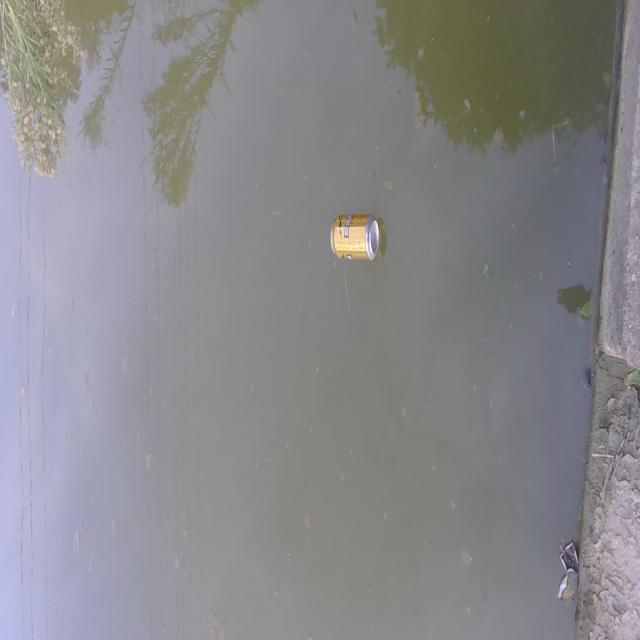garbage: (330, 211, 382, 261)
